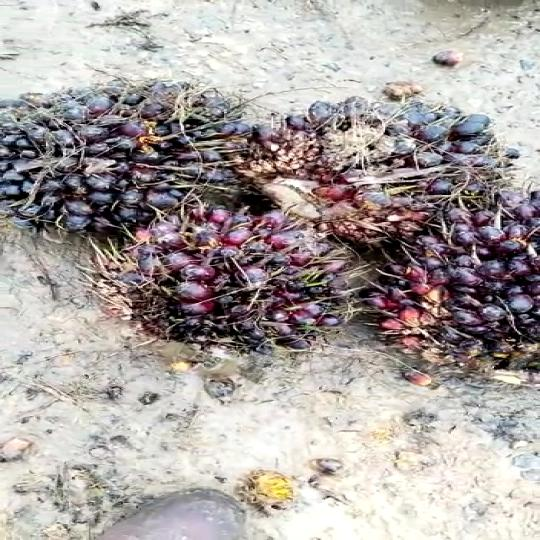kurang masak: (113, 198, 363, 377), (250, 93, 501, 255), (0, 70, 242, 231), (383, 176, 540, 410)
